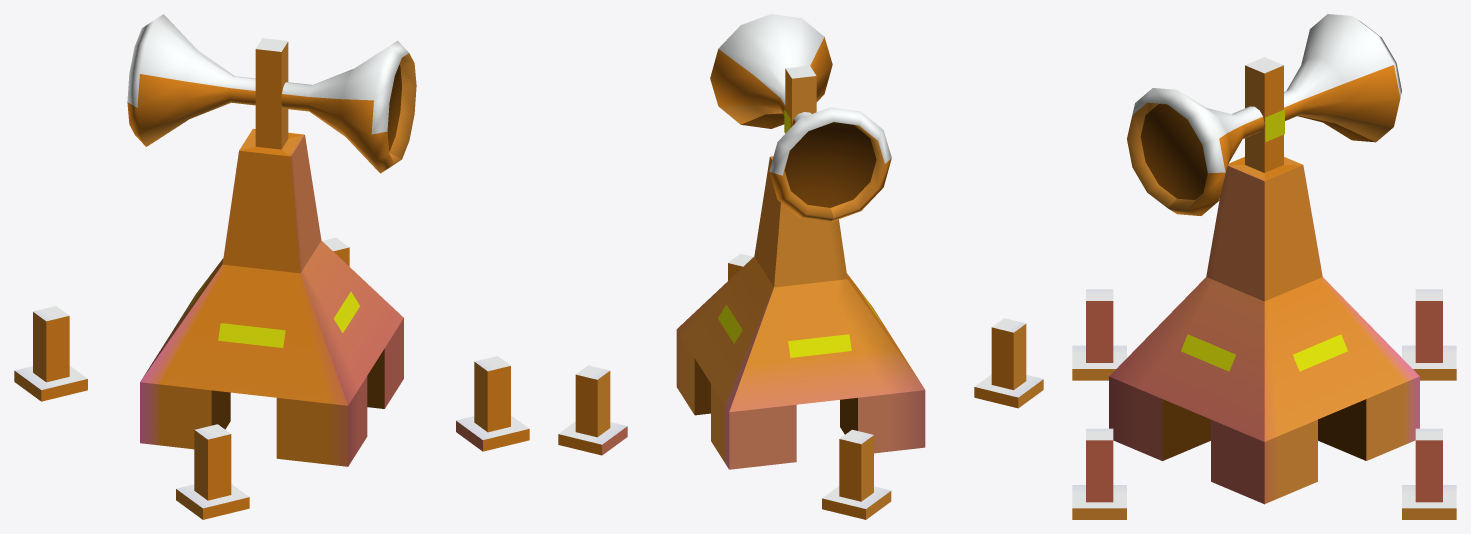
The model's file is CommTower.AmberBlaze.Snow.glb.
3 views of the same model, side by side, from view 1: azimuth 30°, elevation 25°; view 2: azimuth 150°, elevation 25°; view 3: azimuth 270°, elevation 25° (orthographic). The views are drawn at different scales.
Parts seen in each view (by area): view 1: CommTower.AmberBlaze.Snow; view 2: CommTower.AmberBlaze.Snow; view 3: CommTower.AmberBlaze.Snow.
Part boxes in pixels (<box>): CommTower.AmberBlaze.Snow: <box>14,14,529,519</box>; CommTower.AmberBlaze.Snow: <box>558,14,1043,519</box>; CommTower.AmberBlaze.Snow: <box>1072,14,1456,519</box>.
Bounding box in the file's own units: 2.8 × 3.1 × 2.8.
2 materials, 1 textured.
